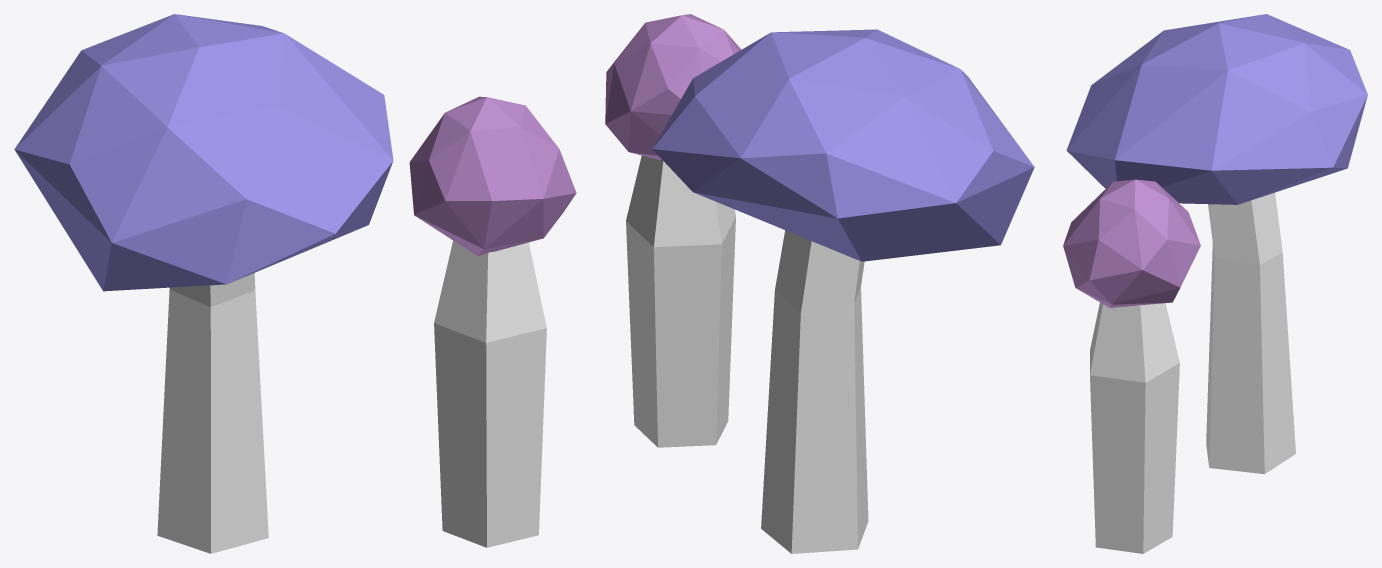
Rendered from Mushroom_k_08.fbx.
3 renders of one model, left to right at view 1: azimuth 30°, elevation 25°; view 2: azimuth 150°, elevation 25°; view 3: azimuth 270°, elevation 25°, orthographic. The views are drawn at different scales.
Parts seen in each view (by area): view 1: Mushroom_k_08; view 2: Mushroom_k_08; view 3: Mushroom_k_08.
Boxes of the visible parts, box(x1,y1,x2,y2) form: Mushroom_k_08: box(14, 14, 576, 553); Mushroom_k_08: box(605, 14, 1034, 553); Mushroom_k_08: box(1063, 14, 1367, 553).
Bounding box in the file's own units: 0.3274 × 0.3491 × 0.2303.
